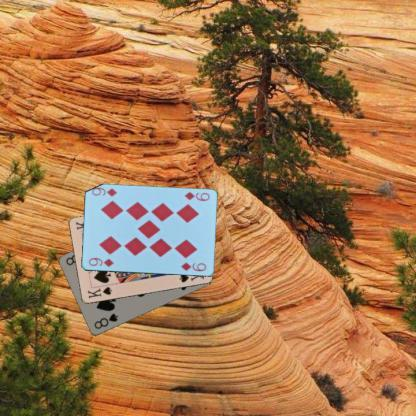8s: (91, 310, 119, 330)
9d: (86, 256, 115, 268), (182, 190, 210, 202)
Ks: (84, 284, 113, 300)
